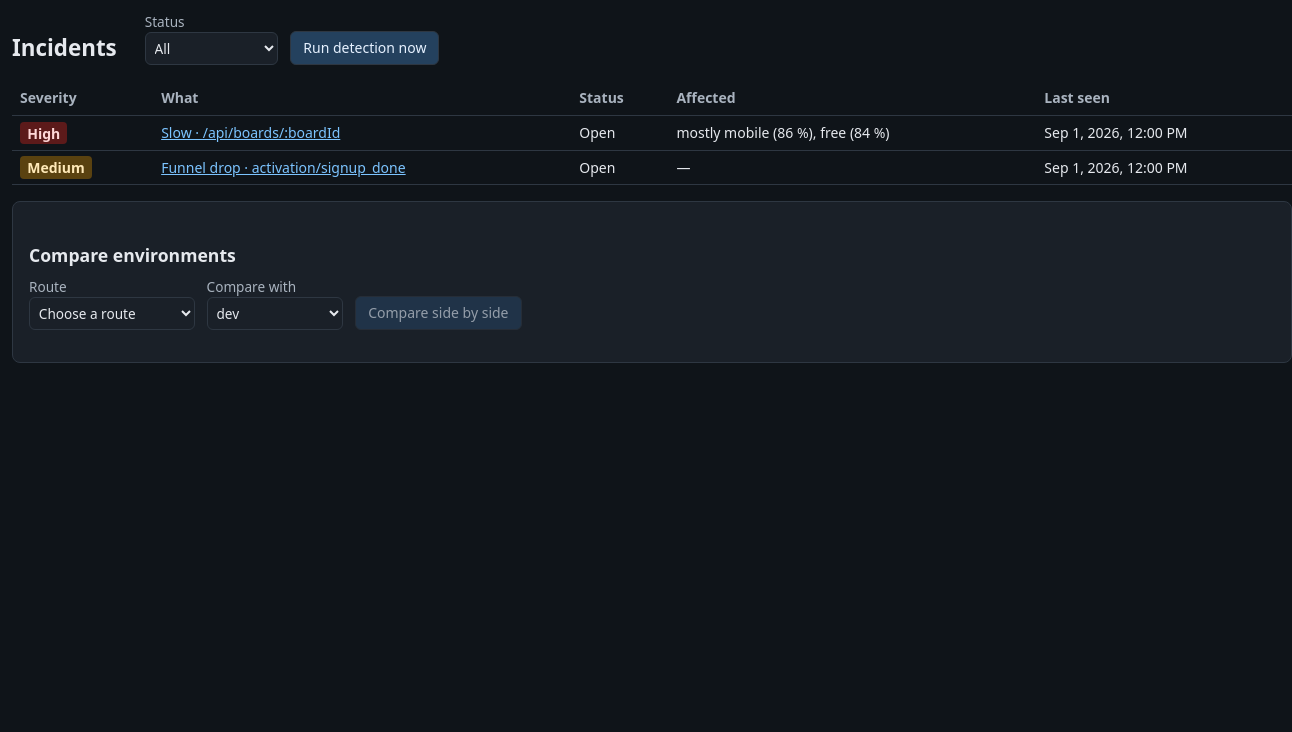
compare panel: explicit side-by-side of one route in two environments
Expected: the button "Compare side by side" is disabled, [355,296,522,330]
Select "/api/boards/:boardId" in the dropdown labelled "Route" at x=112, y=313, box [29,297,195,330]
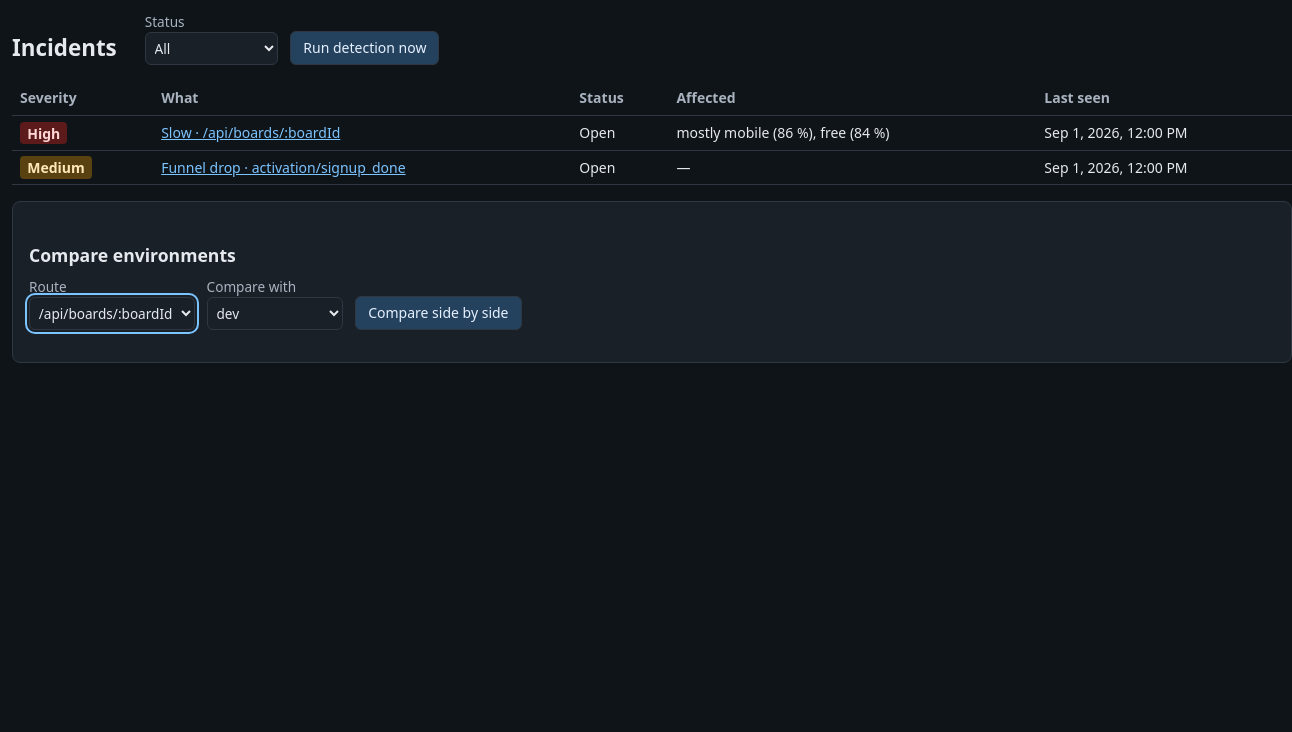
Select "recette (staging)" in the dropdown labelled "Compare with" at x=275, y=313, box [207,297,343,330]
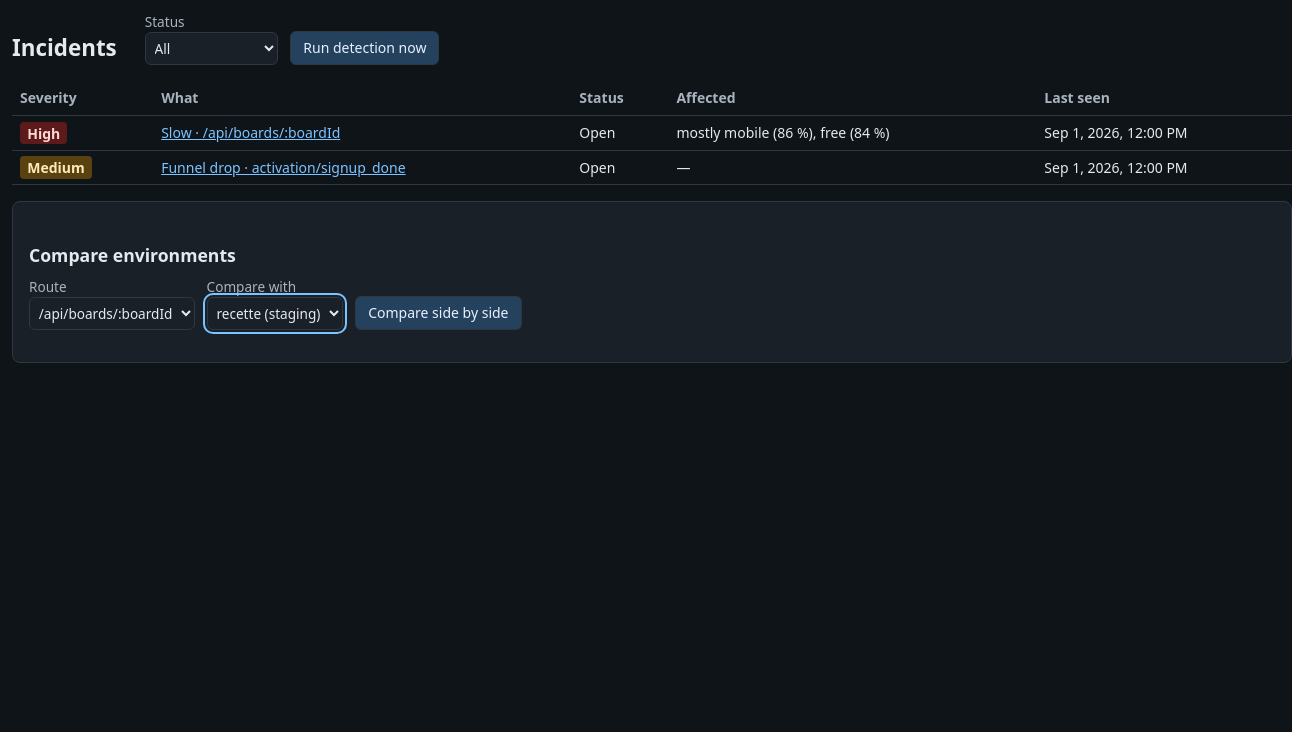
Click the button "Compare side by side" at x=438, y=313, box [355,296,522,330]
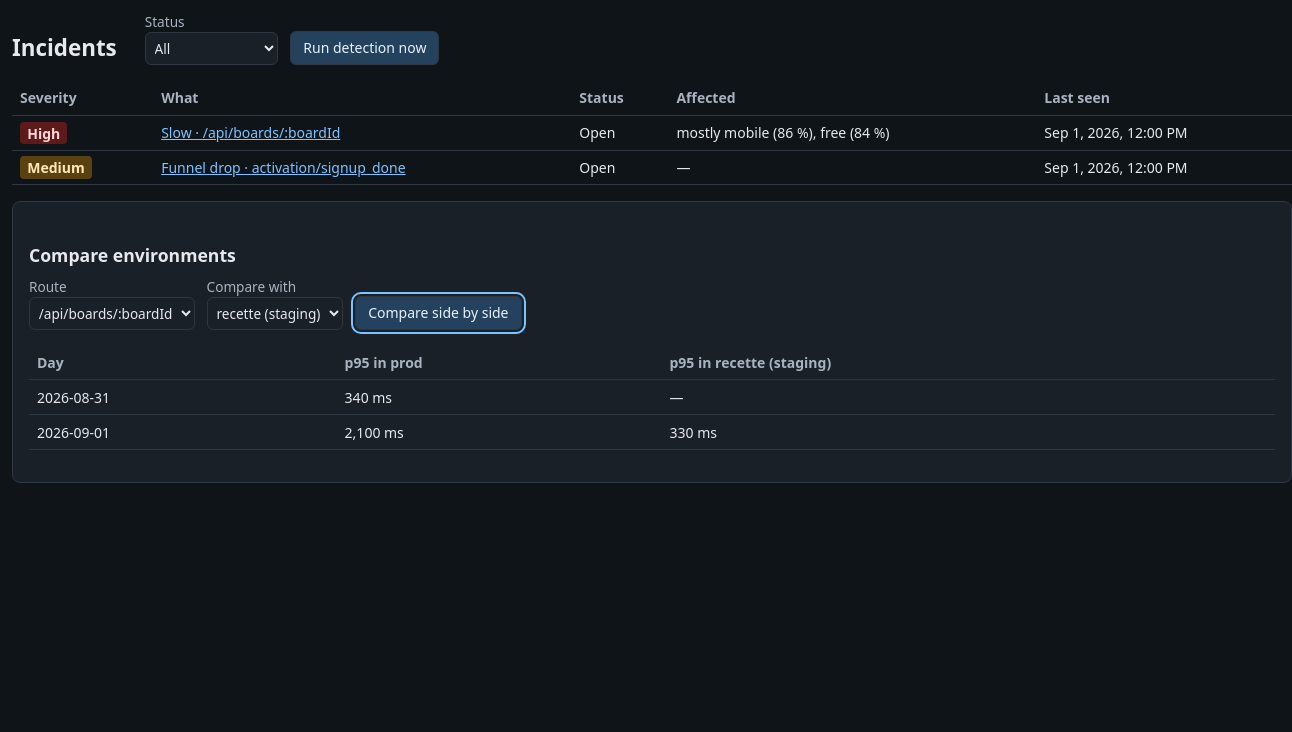
Expected: the column heading "p95 in prod" is shown, [337,346,662,380]
Expected: the column heading "p95 in recette (staging)" is shown, [662,346,1275,380]
Expected: the text "2,100 ms" is shown, [337,415,662,450]
Click the button "Compare side by side" at x=438, y=313, box [355,296,522,330]
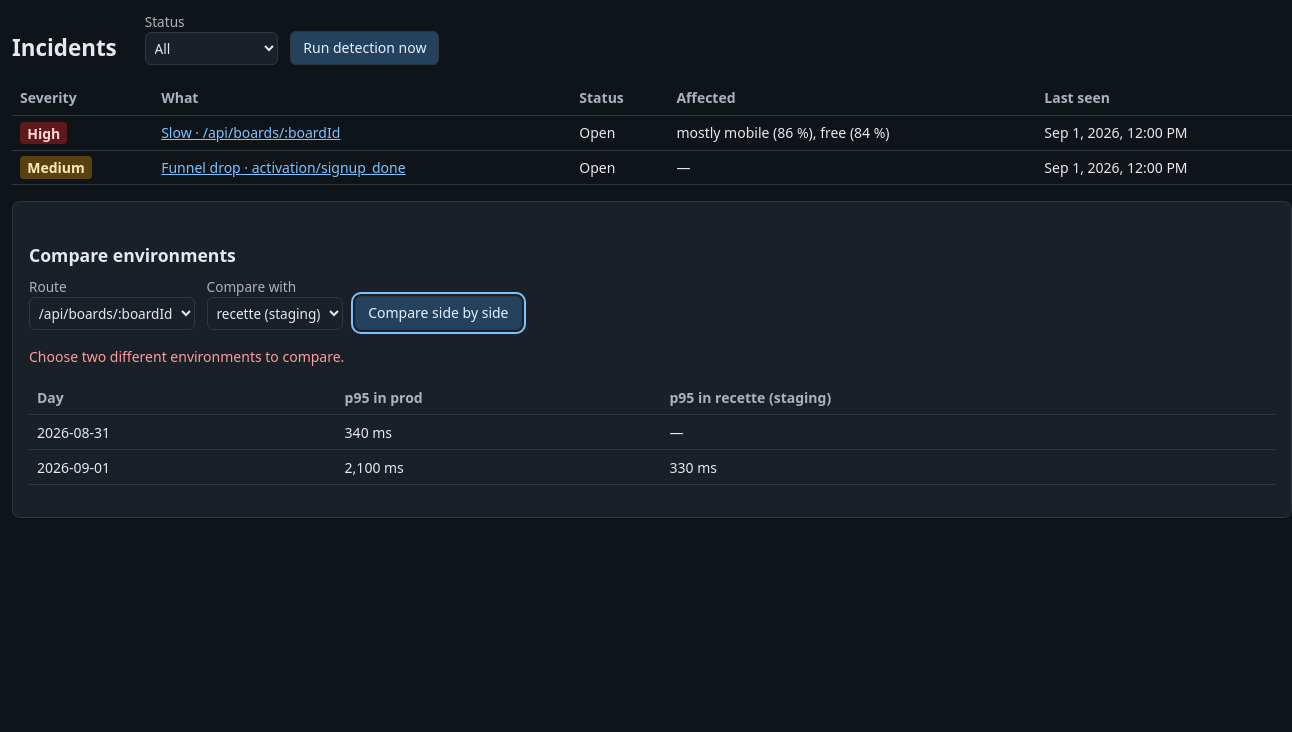
Expected: the text "Choose two different environments to compare." is shown, [29,347,344,366]
